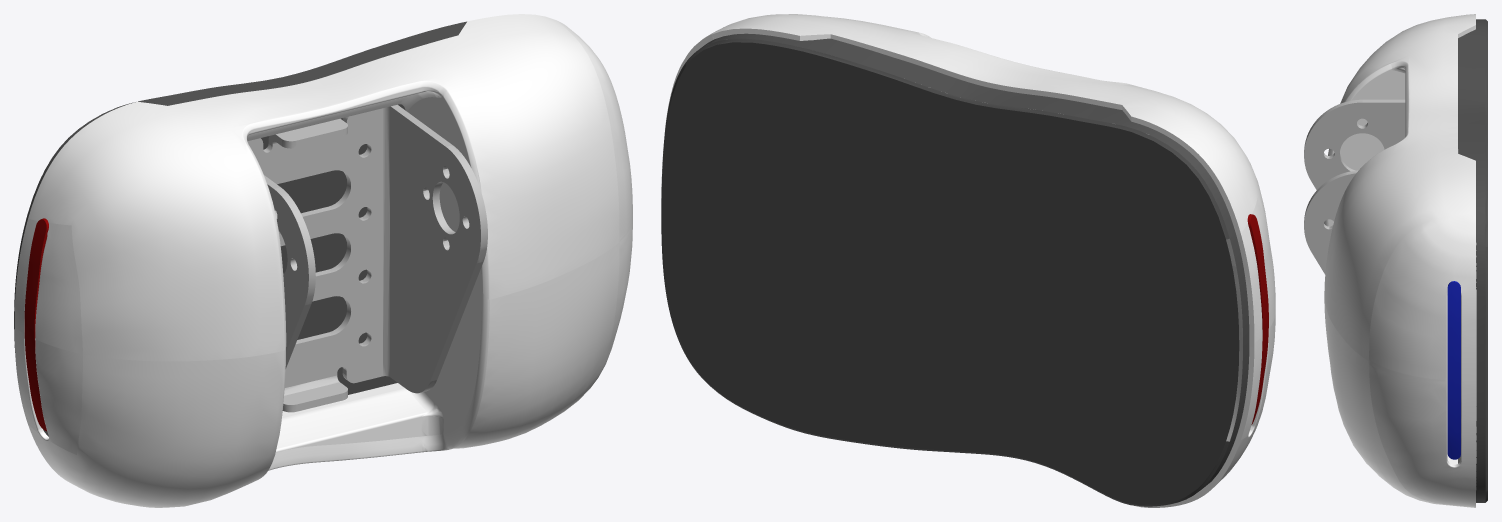
File: r_ankle_roll_link.obj
3 views of the same model, side by side, from view 1: azimuth 30°, elevation 25°; view 2: azimuth 150°, elevation 25°; view 3: azimuth 270°, elevation 25° (orthographic). The views are drawn at different scales.
Size of the model in its own units: 0.1278 by 0.0815 by 0.041.
